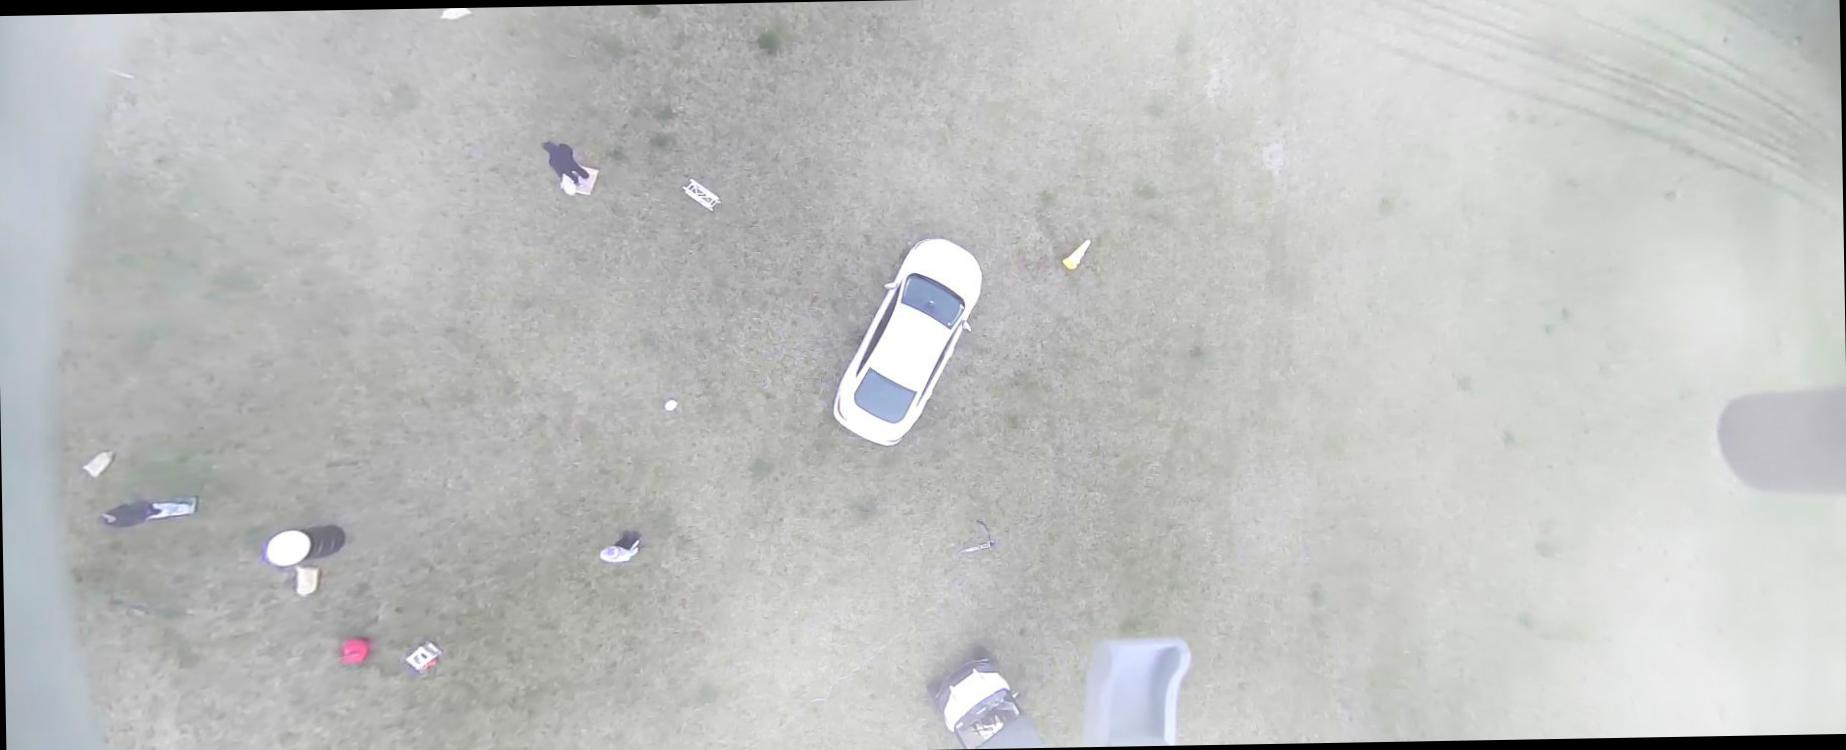vehicle: (830, 237, 985, 449), (925, 645, 1045, 749)
